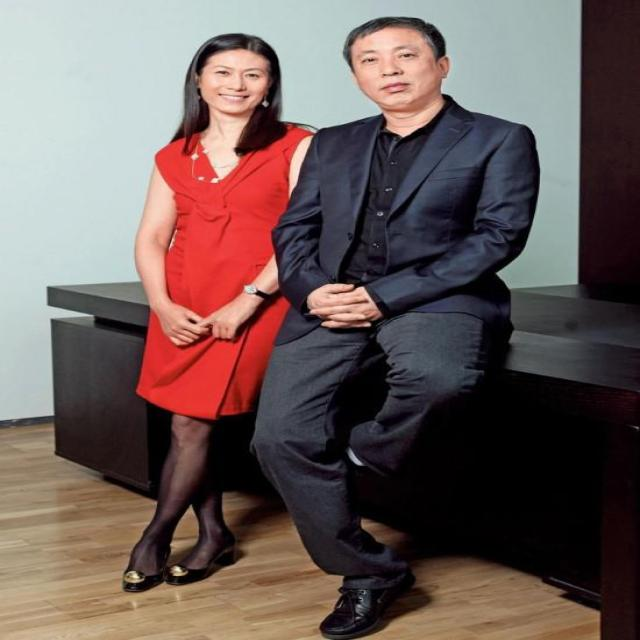obstacle: (283, 2, 533, 592), (112, 29, 294, 602)
